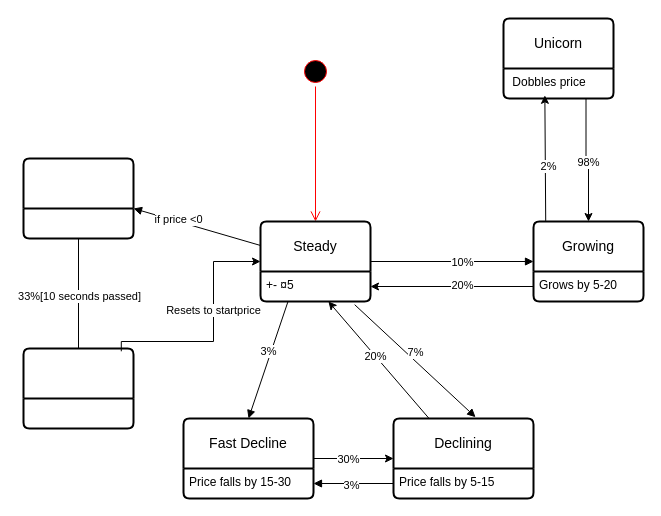
Image size: 661x516. Some labels were removed from this diagram. The shapes that lost their labels are listed below. From the top down, each one's centre as x and y in pixels, then its label:
the point at 78,198: Bankrupt
the point at 78,388: Reset
